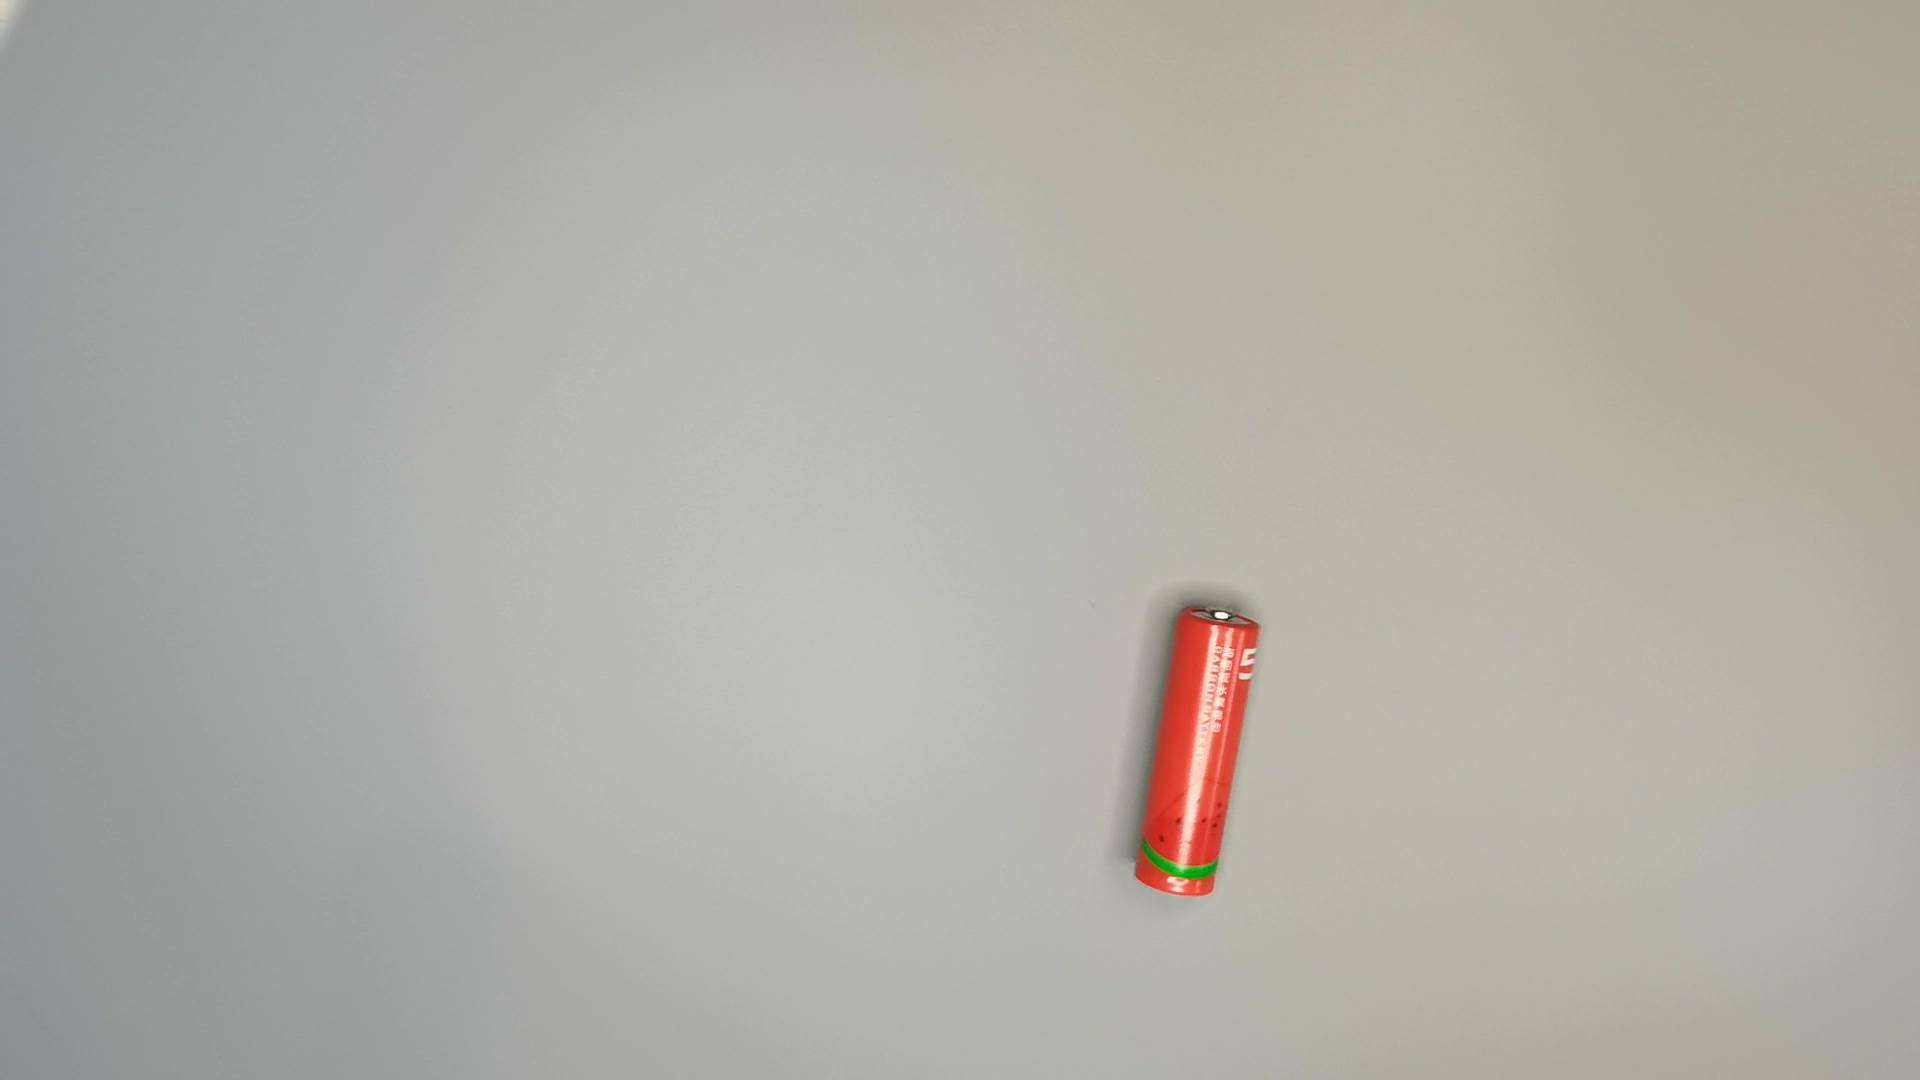battery: (1133, 597, 1265, 899)
